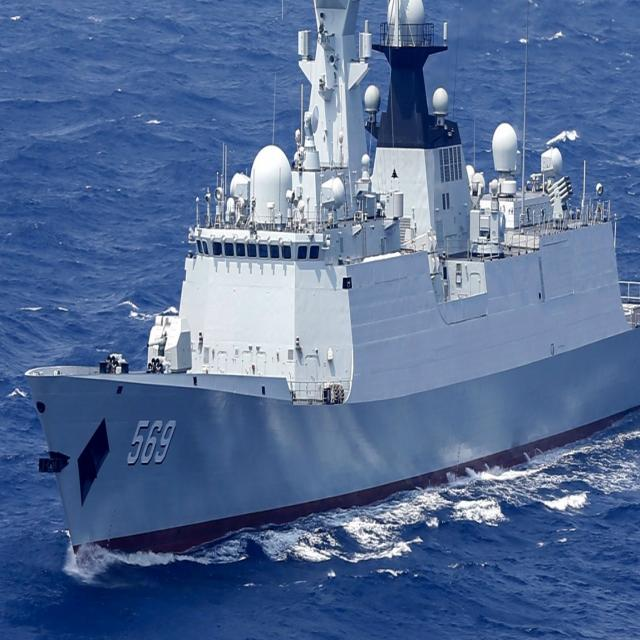Fragata: (1, 1, 436, 584)
